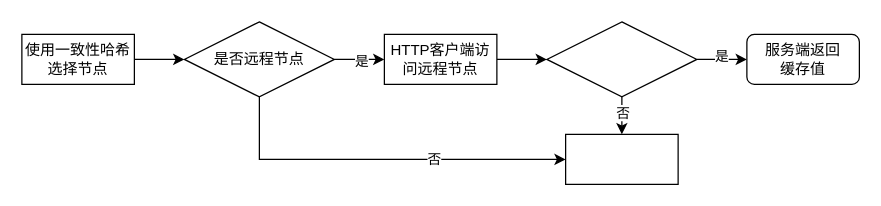
The diagram is 881 pixels wide and 206 high, and some of its shapes have lost their labels. The box of each missing label's shape, as (x1, y1, x2, y2) in pixels:
回退到本地节点处理: (564, 133, 678, 184)
访问成功: (546, 21, 697, 97)
